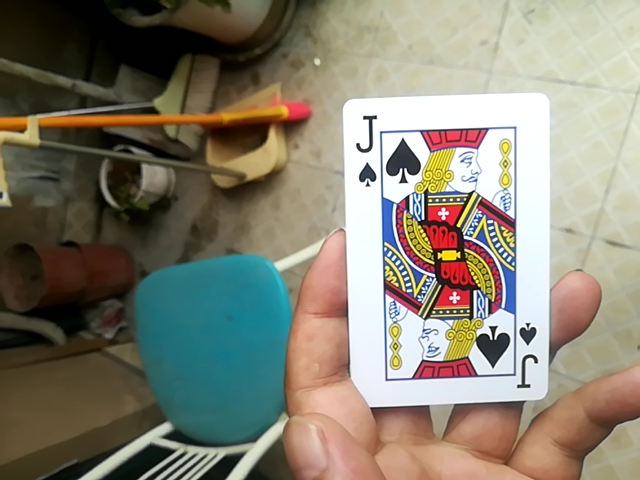ht j: (335, 92, 551, 408)
